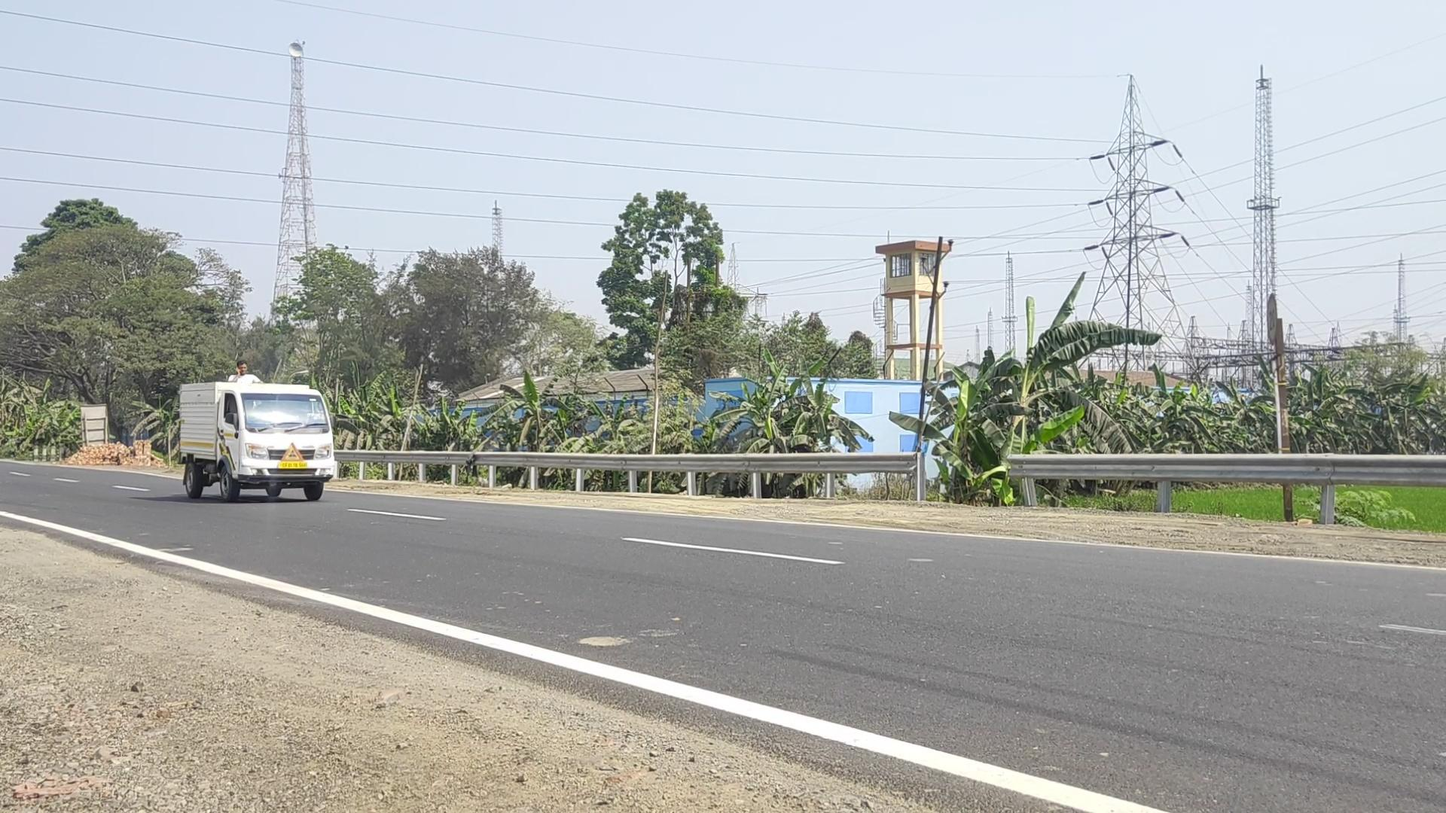van: (178, 360, 338, 503)
